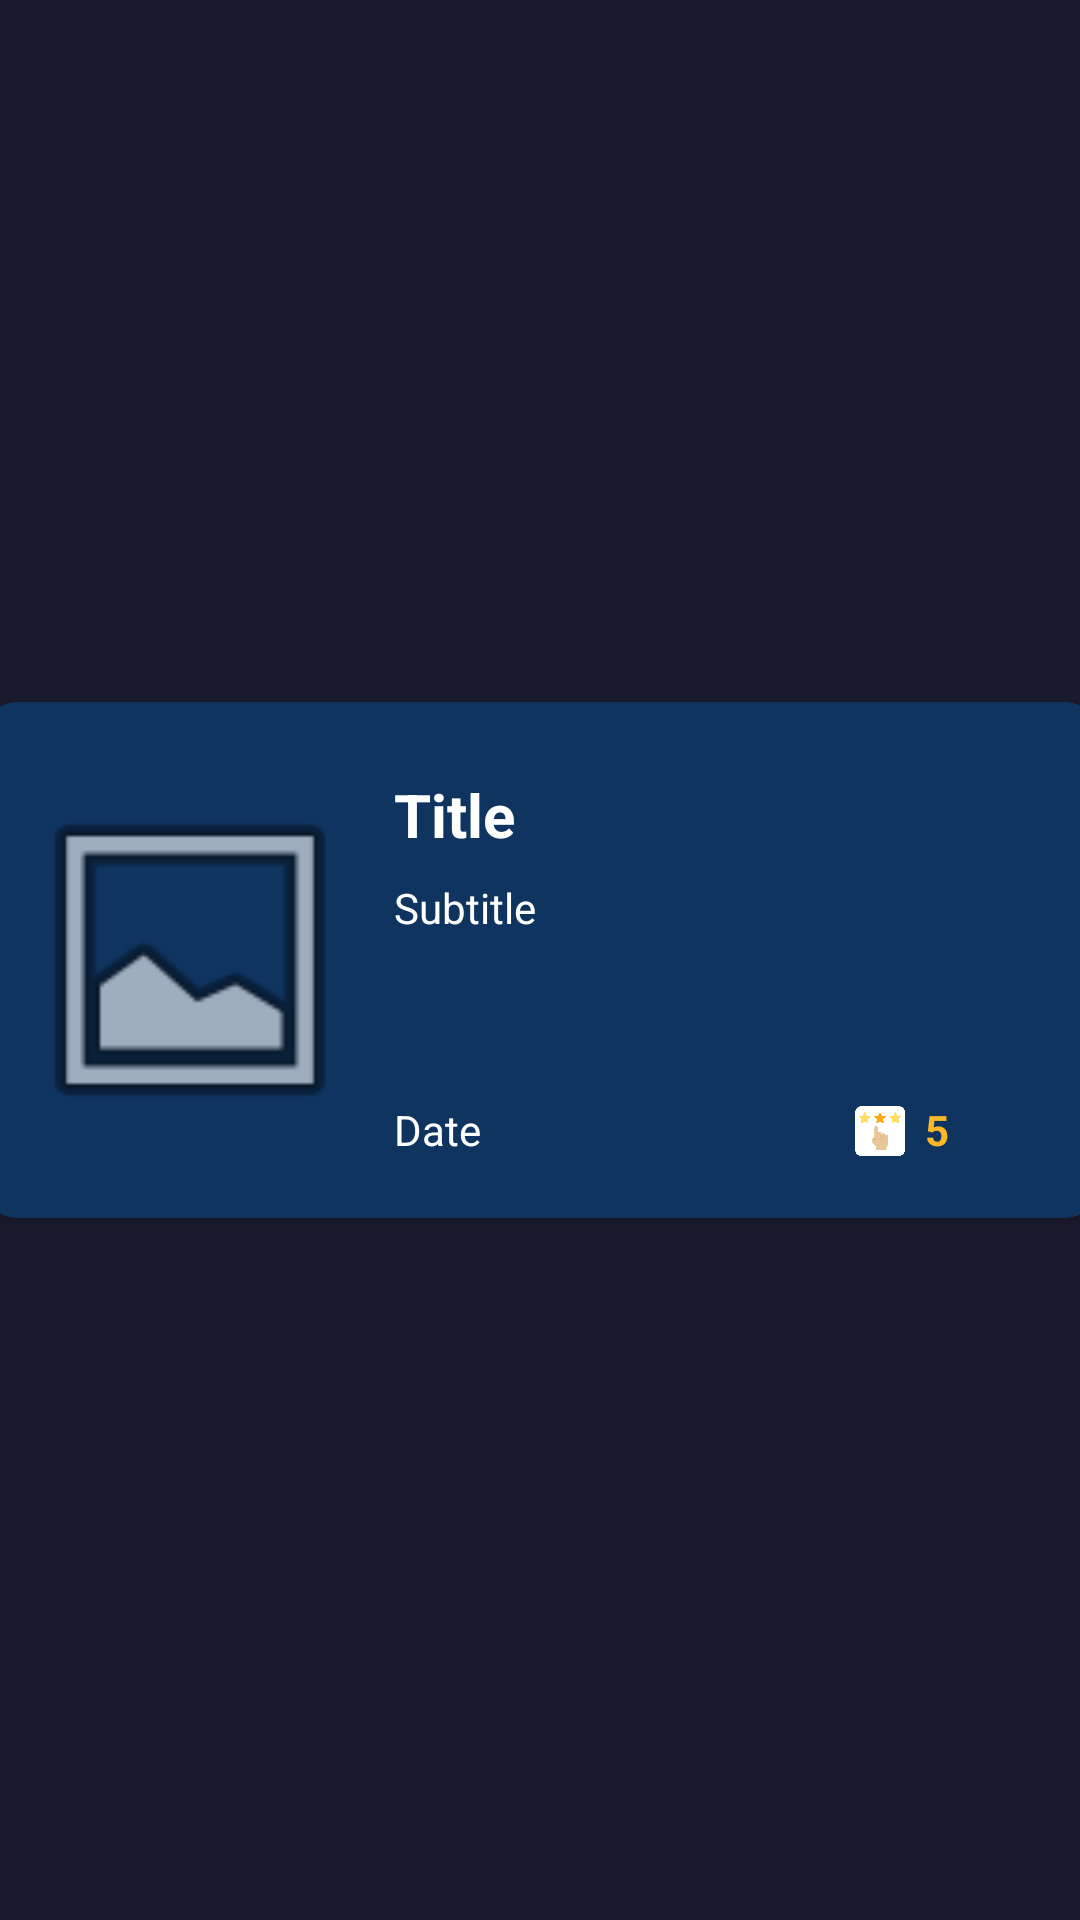

Icon click points for this 1080 × 1920 phone screenshot, format point (x, y):
average rating shape: point (880, 1131)
gallery: point (190, 960)
